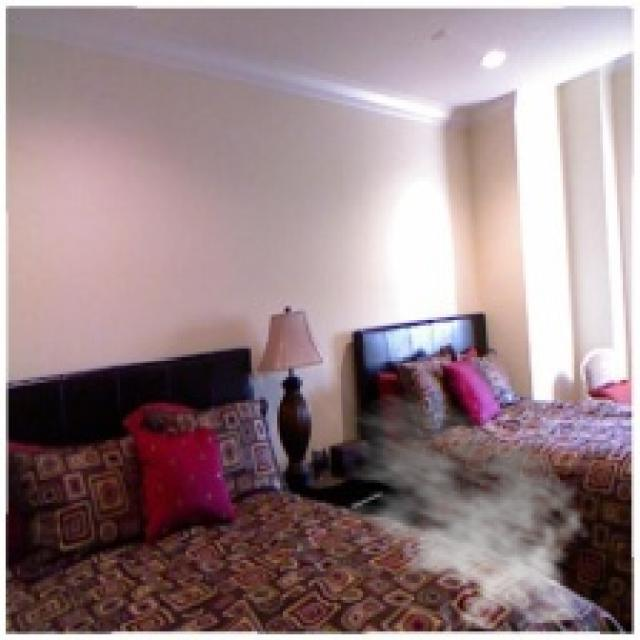smoke: (329, 392, 594, 632)
